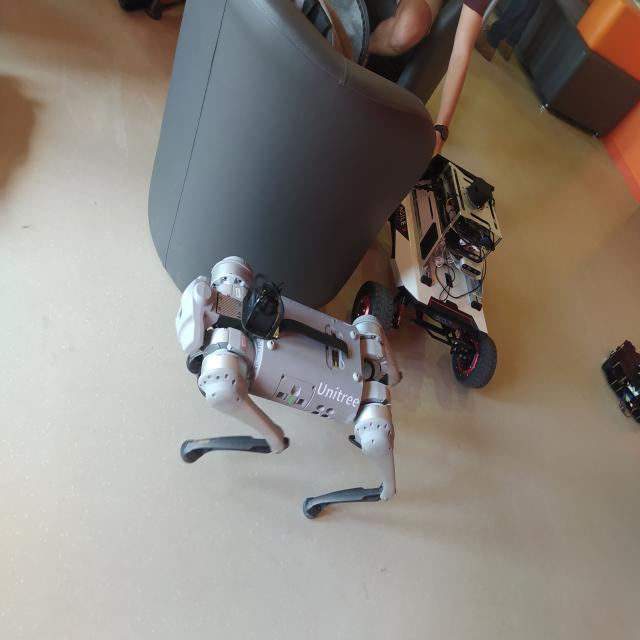unitree-go1-robot: (179, 257, 401, 527)
